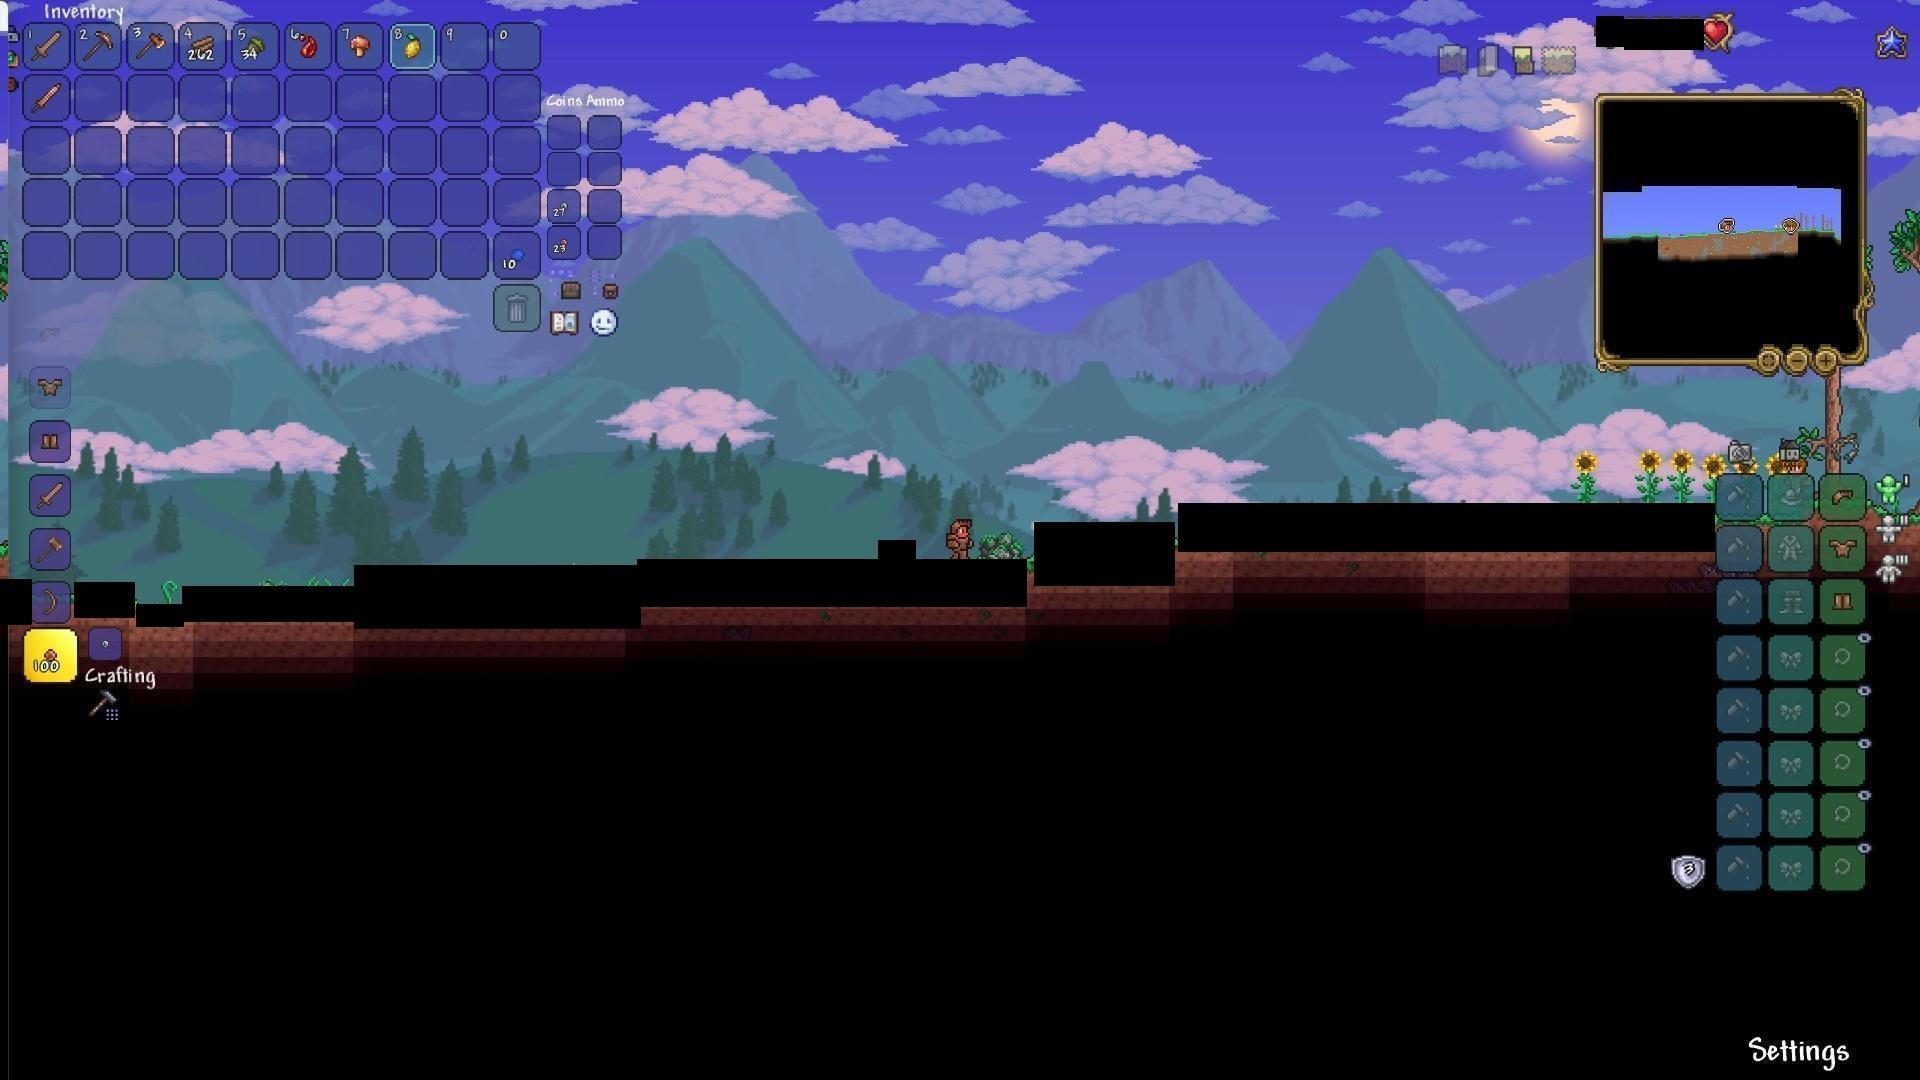breastplate: (33, 378, 65, 400), (1830, 537, 1861, 558)
heart: (1704, 18, 1731, 49)
helmet: (1832, 483, 1859, 509)
legs: (37, 429, 63, 458), (1830, 588, 1855, 616)
wood: (189, 33, 218, 61)
